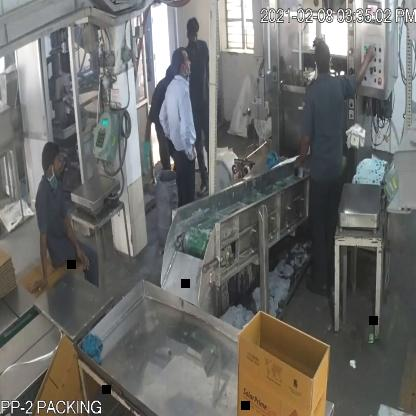glove: (138, 110, 160, 187)
no_glove: (56, 199, 94, 279), (30, 214, 52, 300), (174, 104, 199, 171), (351, 44, 376, 95), (290, 123, 312, 179)
